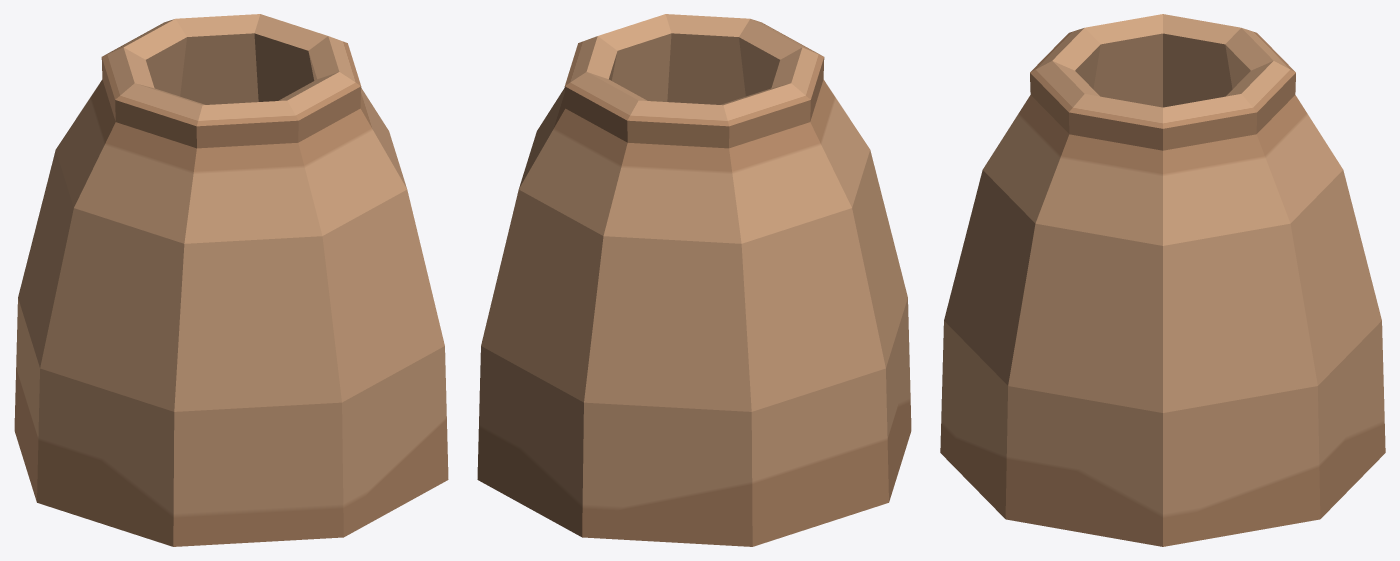
File: SM_Prop_ClayJar_04.fbx
3 views of the same model, side by side, from view 1: azimuth 30°, elevation 25°; view 2: azimuth 150°, elevation 25°; view 3: azimuth 270°, elevation 25° (orthographic).
Parts seen in each view (by area): view 1: SM_Prop_ClayJar_04; view 2: SM_Prop_ClayJar_04; view 3: SM_Prop_ClayJar_04.
Boxes of the visible parts, x1,y1,x2,y2 form: SM_Prop_ClayJar_04: [14, 14, 448, 546]; SM_Prop_ClayJar_04: [477, 14, 911, 546]; SM_Prop_ClayJar_04: [940, 14, 1385, 546].
Size of the model in its own units: 73.36 by 71.29 by 73.36.
